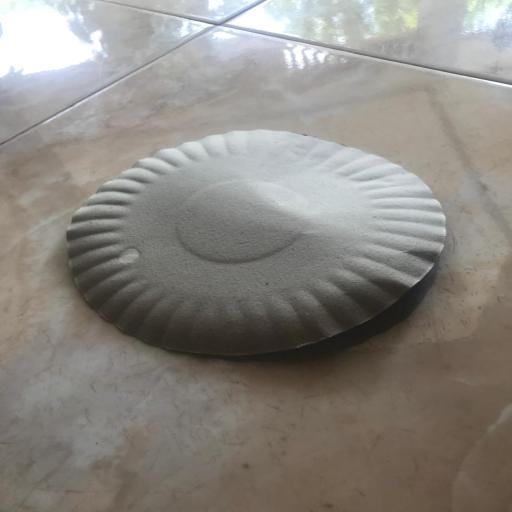waste: (53, 108, 462, 363)
